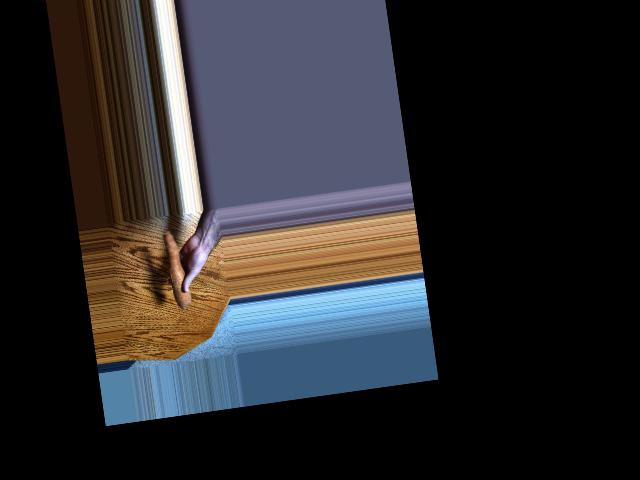sweet_potato: (160, 226, 189, 308)
